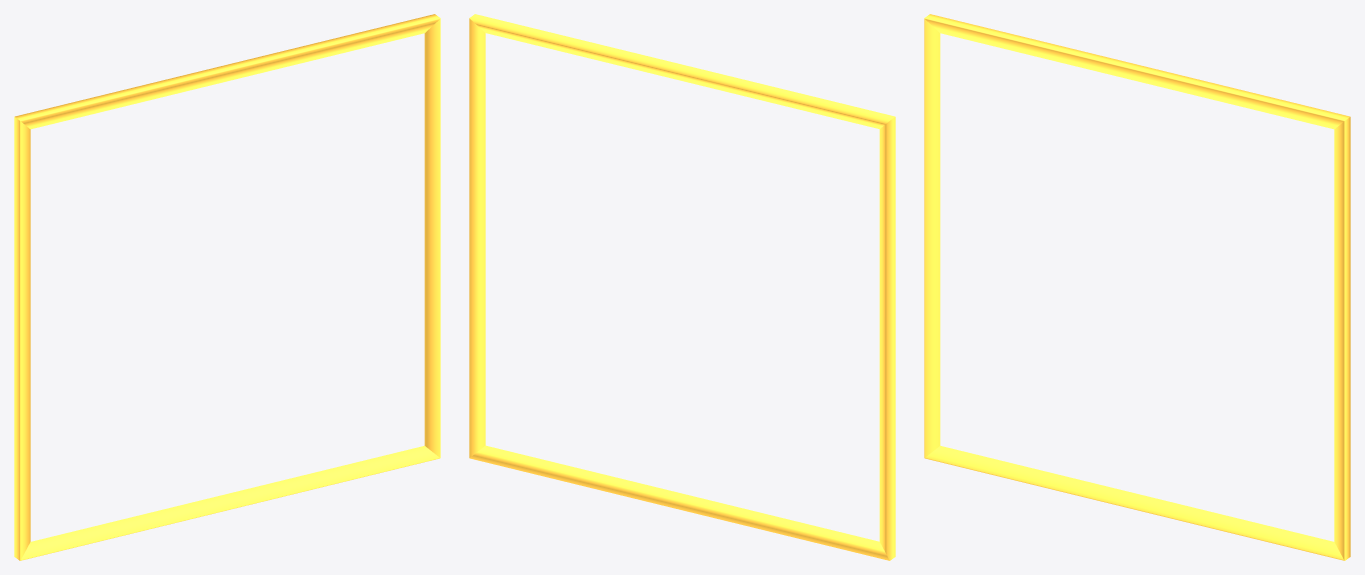
The model's file is Frame.gltf.
3 views of the same model, side by side, from view 1: azimuth 30°, elevation 25°; view 2: azimuth 150°, elevation 25°; view 3: azimuth 330°, elevation 25° (orthographic).
Visible parts, largest first — view 1: Frame.017; view 2: Frame.017; view 3: Frame.017.
Boxes of the visible parts, x1,y1,x2,y2 form: Frame.017: [14, 14, 440, 560]; Frame.017: [469, 14, 895, 560]; Frame.017: [924, 14, 1350, 560].
Bounding box in the file's own units: 20.7 × 20.7 × 0.5.
